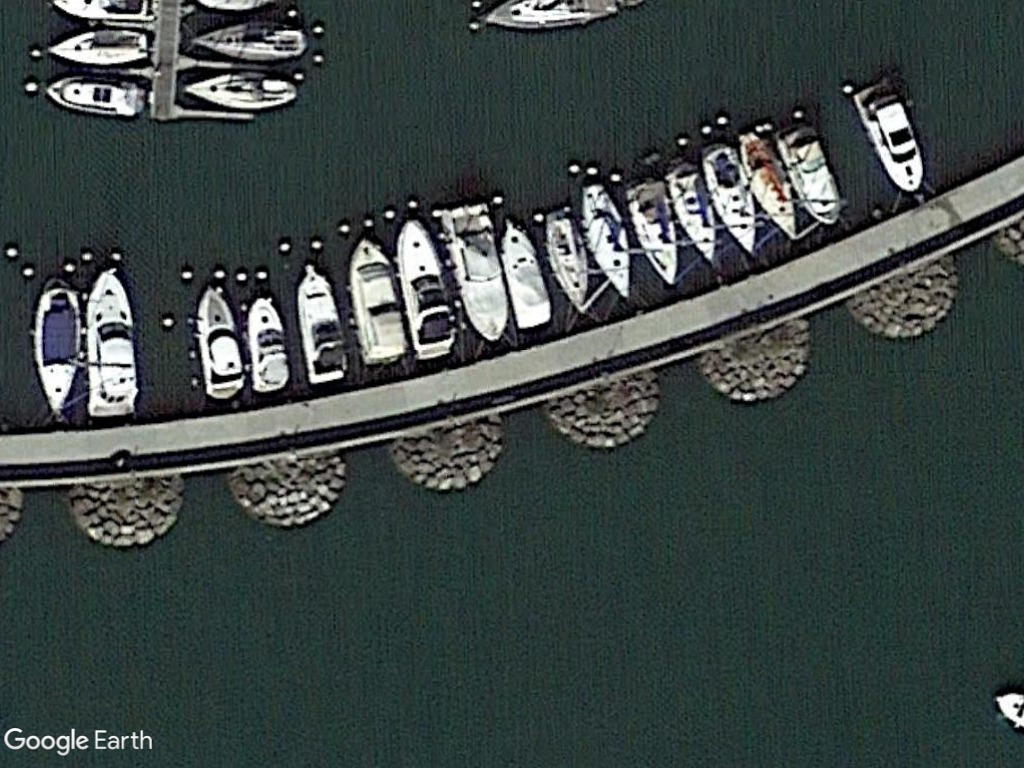boat: (387, 209, 462, 357), (438, 197, 508, 345), (79, 267, 142, 420), (851, 79, 932, 197), (340, 231, 408, 370), (24, 277, 83, 424), (739, 125, 803, 250), (621, 169, 685, 292), (575, 180, 637, 302), (700, 141, 763, 259), (294, 258, 351, 385), (493, 220, 555, 331), (664, 152, 722, 270), (778, 121, 841, 229), (191, 283, 249, 400), (190, 14, 310, 65), (236, 291, 292, 395), (544, 203, 593, 319), (181, 70, 305, 112), (41, 74, 147, 123), (44, 22, 152, 70)
